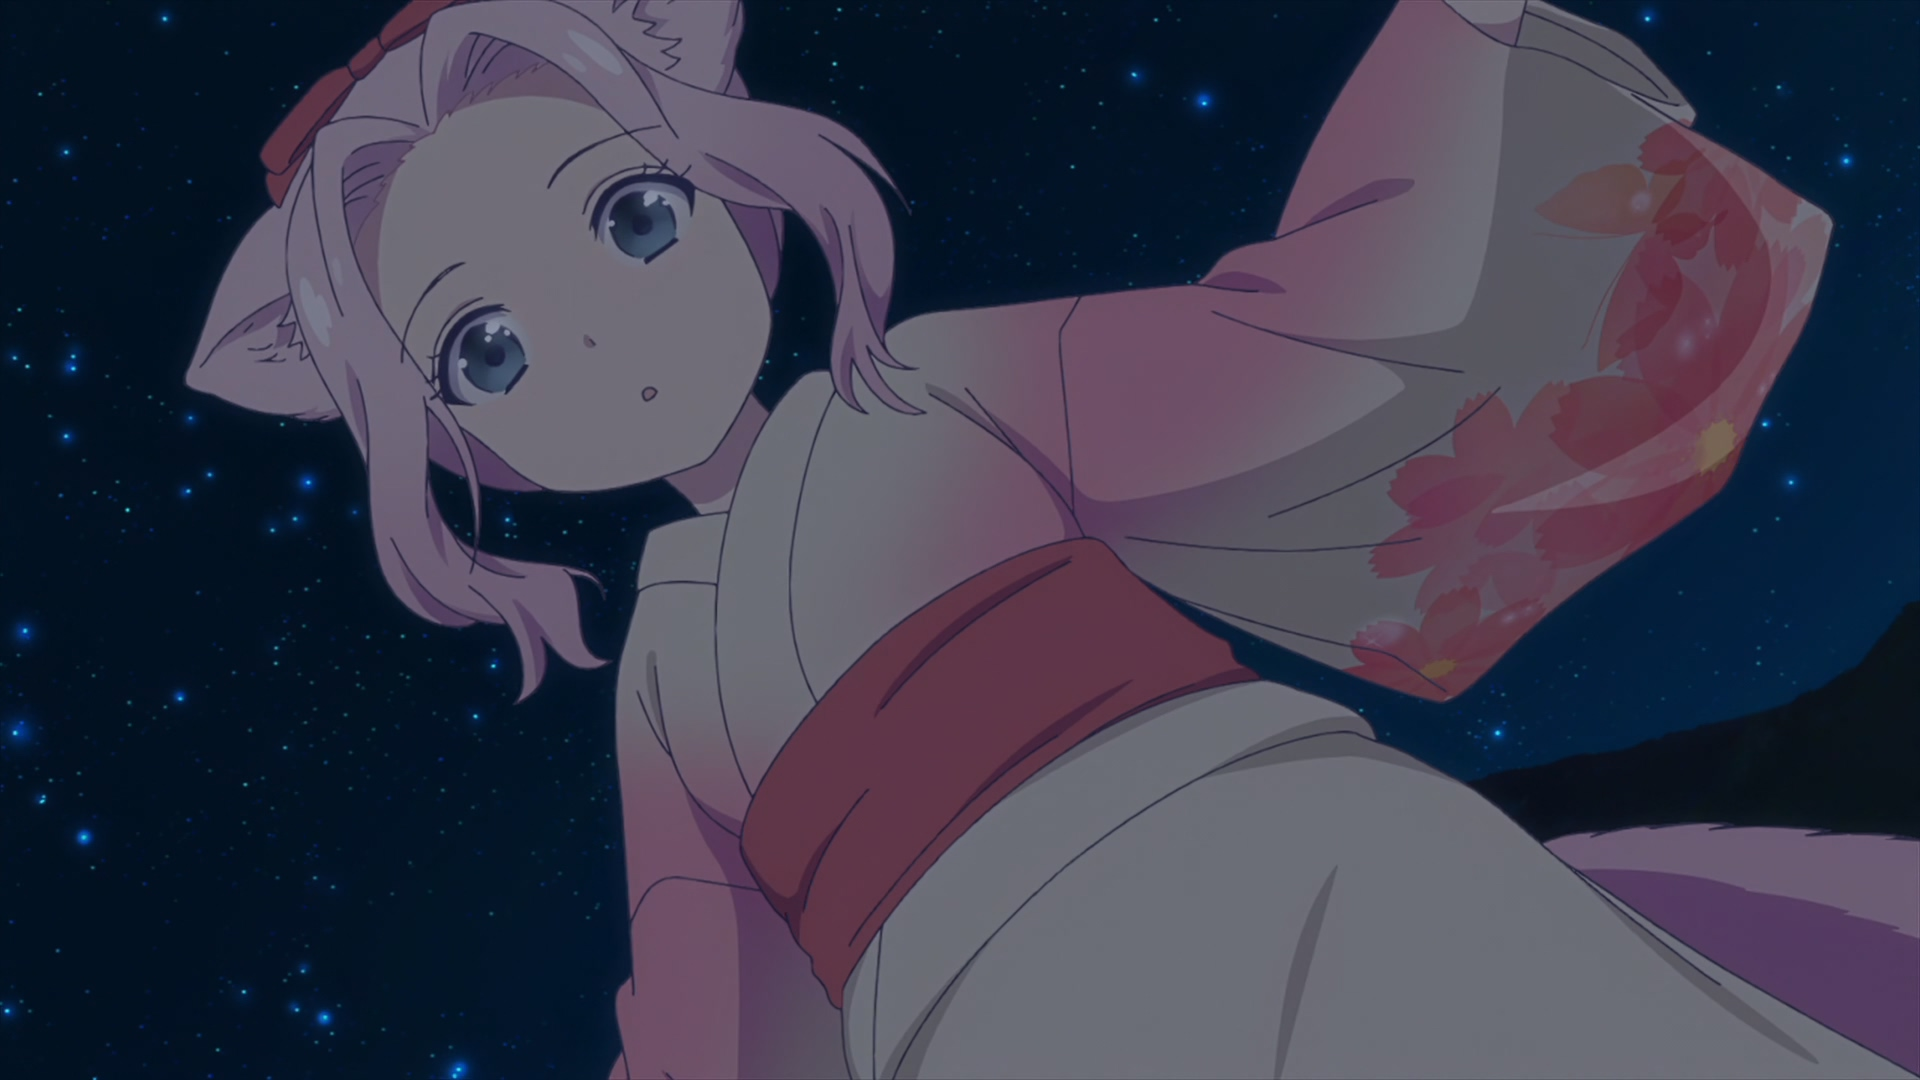莲: (186, 1, 1920, 1080)
